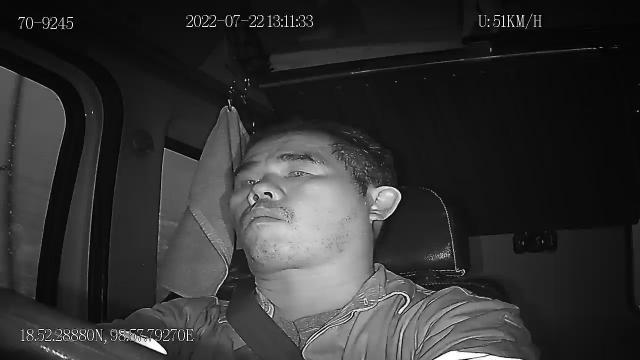SafeDriving: (278, 150, 324, 184)
Seatbelt: (225, 284, 308, 360)
